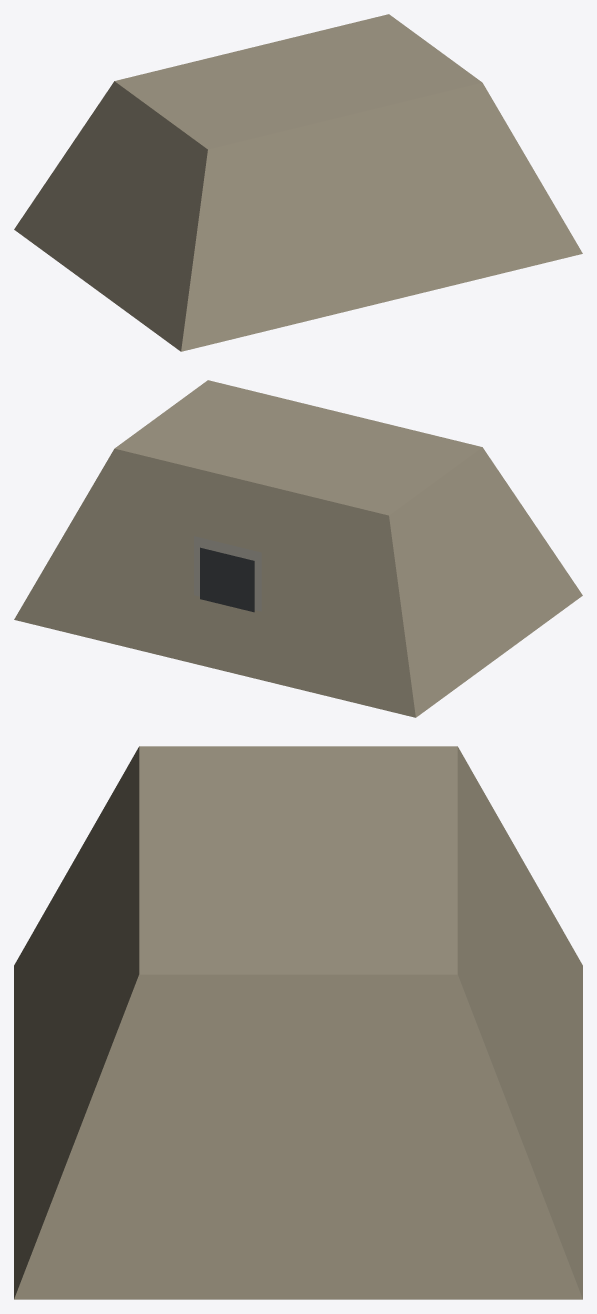
Rendered from fort_dearborn_root_house__cellar_1816.glb.
3 renders of one model, top to bottom at view 1: azimuth 30°, elevation 25°; view 2: azimuth 150°, elevation 25°; view 3: azimuth 270°, elevation 25°, orthographic. The views are drawn at different scales.
Parts seen in each view (by area): view 1: fort_dearborn_root_house__cellar_1816; view 2: fort_dearborn_root_house__cellar_1816; view 3: fort_dearborn_root_house__cellar_1816.
Part boxes in pixels (bbox=[...]): fort_dearborn_root_house__cellar_1816: bbox=[14, 14, 582, 351]; fort_dearborn_root_house__cellar_1816: bbox=[14, 380, 582, 717]; fort_dearborn_root_house__cellar_1816: bbox=[14, 746, 582, 1299].
Bounding box in the file's own units: 5 × 1.9 × 3.6.
